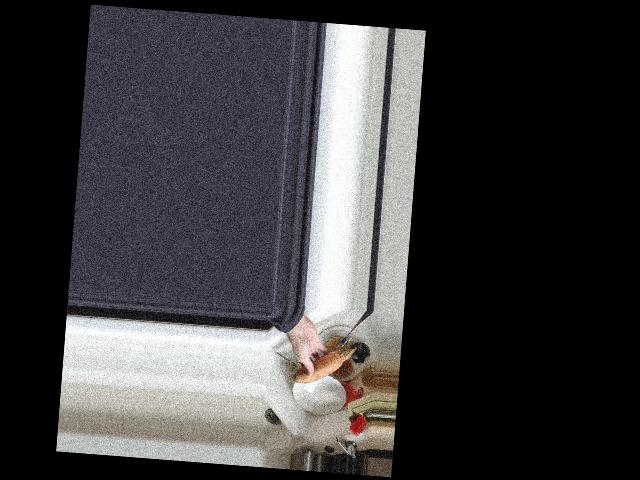sweet_potato: (291, 340, 355, 389)
